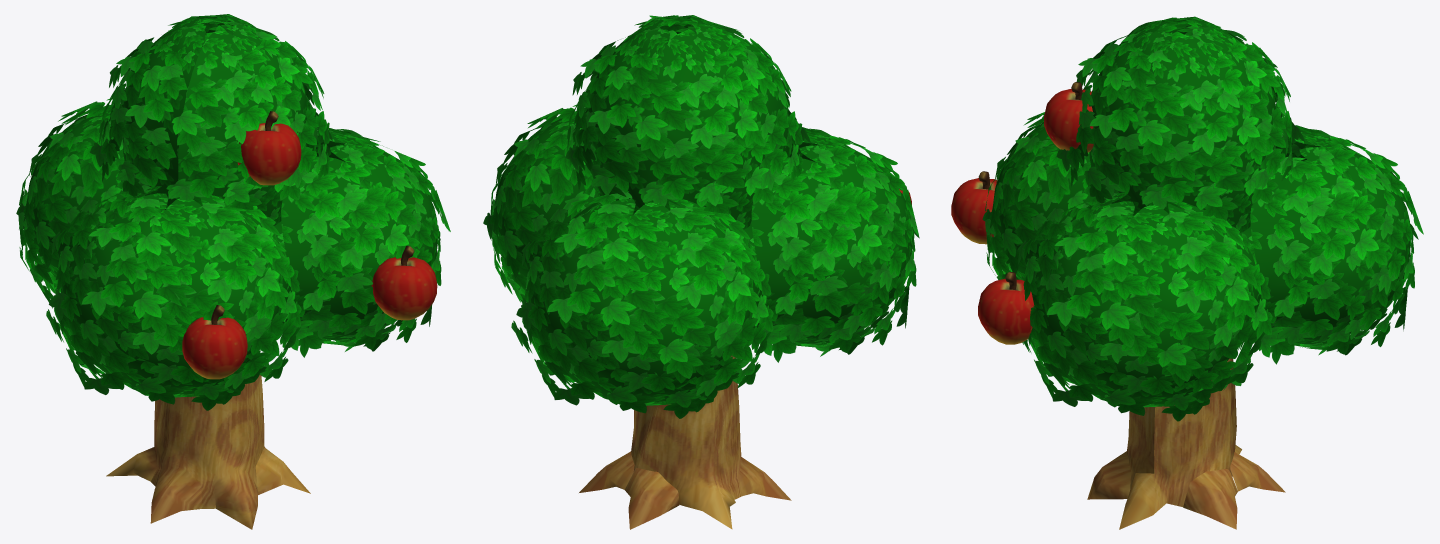
3 views of the same model, side by side, from view 1: azimuth 30°, elevation 25°; view 2: azimuth 150°, elevation 25°; view 3: azimuth 270°, elevation 25° (orthographic).
Parts seen in each view (by area): view 1: Leaf186_1__ac_bigtree_leafA.001; view 2: Leaf186_1__ac_bigtree_leafA.001; view 3: Leaf186_1__ac_bigtree_leafA.001.
Boxes of the visible parts, box(x1,y1,x2,y2) form: Leaf186_1__ac_bigtree_leafA.001: box(16, 14, 450, 529); Leaf186_1__ac_bigtree_leafA.001: box(483, 15, 919, 529); Leaf186_1__ac_bigtree_leafA.001: box(951, 16, 1423, 529).
Size of the model in its own units: 394 by 457 by 411.
Materials: 6 (6 with a texture image).
